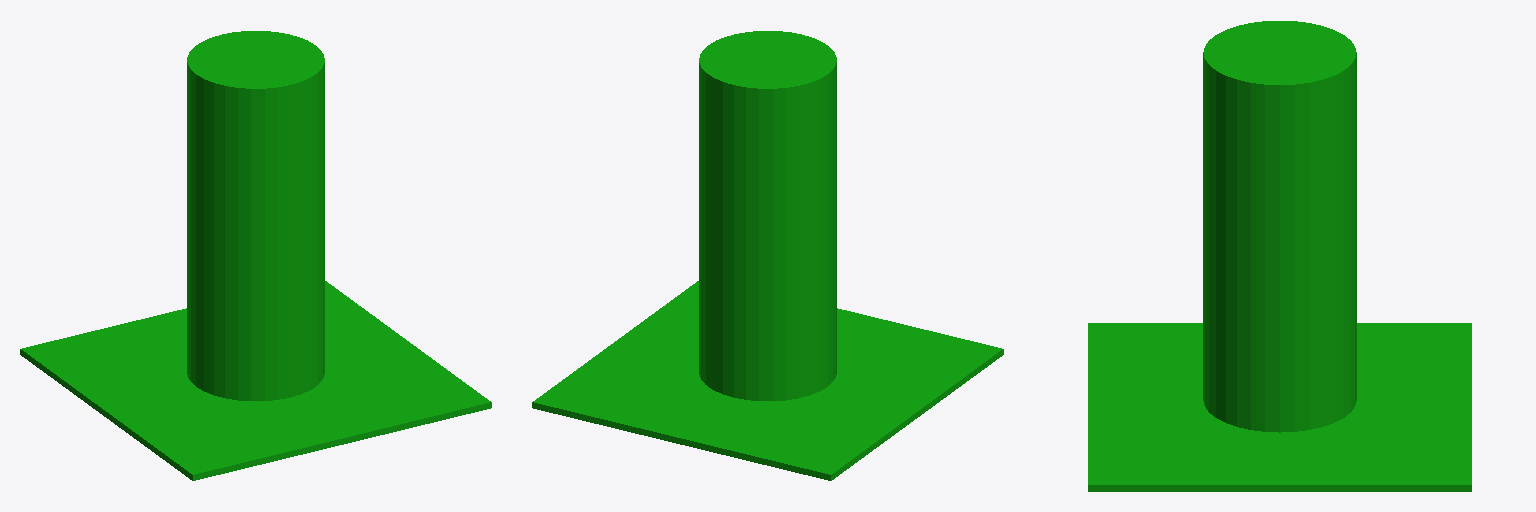
The robot description file, URDF, robot "peg":
<?xml version="0.0" ?>
<robot name="peg">
    <link name="world"/>

    <joint name="fixed" type="fixed">
        <parent link="world"/>
        <child link="baseLink"/>
        <origin xyz="0 0 0"/>
    </joint>

    <link name="baseLink">
        <inertial>
            <origin rpy="0 0 0" xyz="0 0 0.005"/>
            <mass value="1.0"/>
            <inertia ixx="0.020842" ixy="0" ixz="0" iyy="0.020842" iyz="0" izz="0.041667"/>
        </inertial>
        <visual>
            <origin rpy="0 0 0" xyz="0.0 0.0 0.0"/>
            <geometry>
                <box size="0.5 0.5 0.01"/>
            </geometry>
            <material name="pegmat0">
                <color rgba="0.1 0.7 0.1 1"/>
            </material>
        </visual>
        <collision>
            <origin rpy="0 0 0" xyz="0.0 0.0 0.0"/>
            <geometry>
                <box size="0.5 0.5 0.01"/>
            </geometry>
        </collision>
    </link>

    <joint name="joint_baseLink_peg" type="fixed">
        <parent link="baseLink"/>
        <child link="pegLink"/>
        <origin xyz="0 0 0.01"/>
    </joint>

    <link name="pegLink">
        <inertial>
            <origin rpy="0 0 0" xyz="0 0 0.5"/>
            <mass value="0.5"/>
            <inertia ixx="0.042917" ixy="0" ixz="0" iyy="0.042917" iyz="0" izz="0.0025"/>
        </inertial>
        <visual>
            <origin rpy="0 0 0" xyz="0.0 0.0 0.25"/>
            <geometry>
                <cylinder length="0.5" radius="0.1"/>
            </geometry>
            <material name="pegmat1">
                <color rgba="0.1 0.7 0.1 1"/>
            </material>
        </visual>
        <collision>
            <origin rpy="0 0 0" xyz="0.0 0.0 0.25"/>
            <geometry>
                <cylinder length="0.5" radius="0.1"/>
            </geometry>
        </collision>
    </link>
</robot>

--- Facts derived from the render (not from the file) ---
The picture shows the robot from 3 angles, left to right: view 1: azimuth 30°, elevation 25°; view 2: azimuth 150°, elevation 25°; view 3: azimuth 270°, elevation 25°; orthographic projection.
Model peg with 3 links and 2 joints (2 fixed), rooted at world, posed every joint at zero.
Visible links, largest first — view 1: pegLink, baseLink; view 2: pegLink, baseLink; view 3: pegLink, baseLink.
Link boxes in pixels (x1,y1,x2,y2): pegLink: (187, 31, 324, 400); baseLink: (20, 281, 491, 480); pegLink: (699, 31, 836, 400); baseLink: (532, 281, 1003, 480); pegLink: (1203, 21, 1356, 432); baseLink: (1088, 323, 1471, 491).
Bounding box of the posed robot: 0.5 × 0.5 × 0.515 m (x, y, z).
Geometry: primitives only (box / cylinder / sphere), no mesh files.